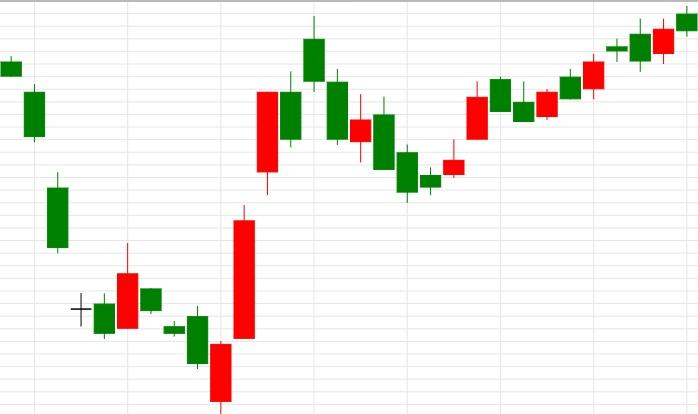three_white_soldiers_rise: (116, 91, 279, 414)
